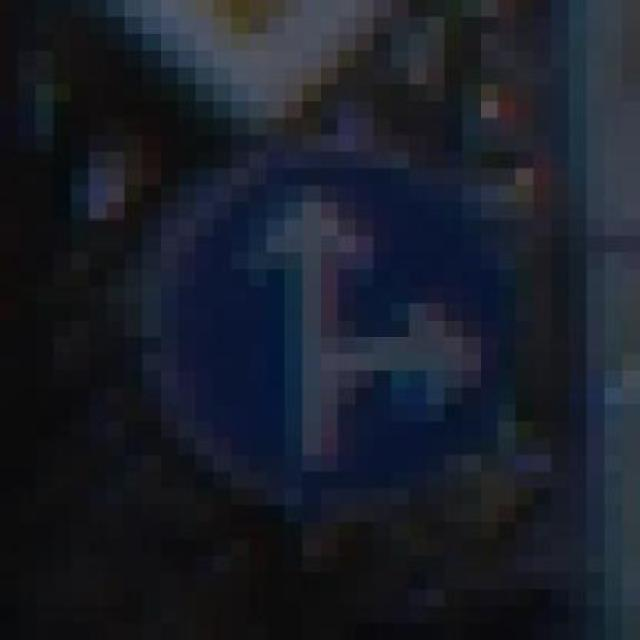Go Straight or Turn Right: (89, 118, 552, 539)
